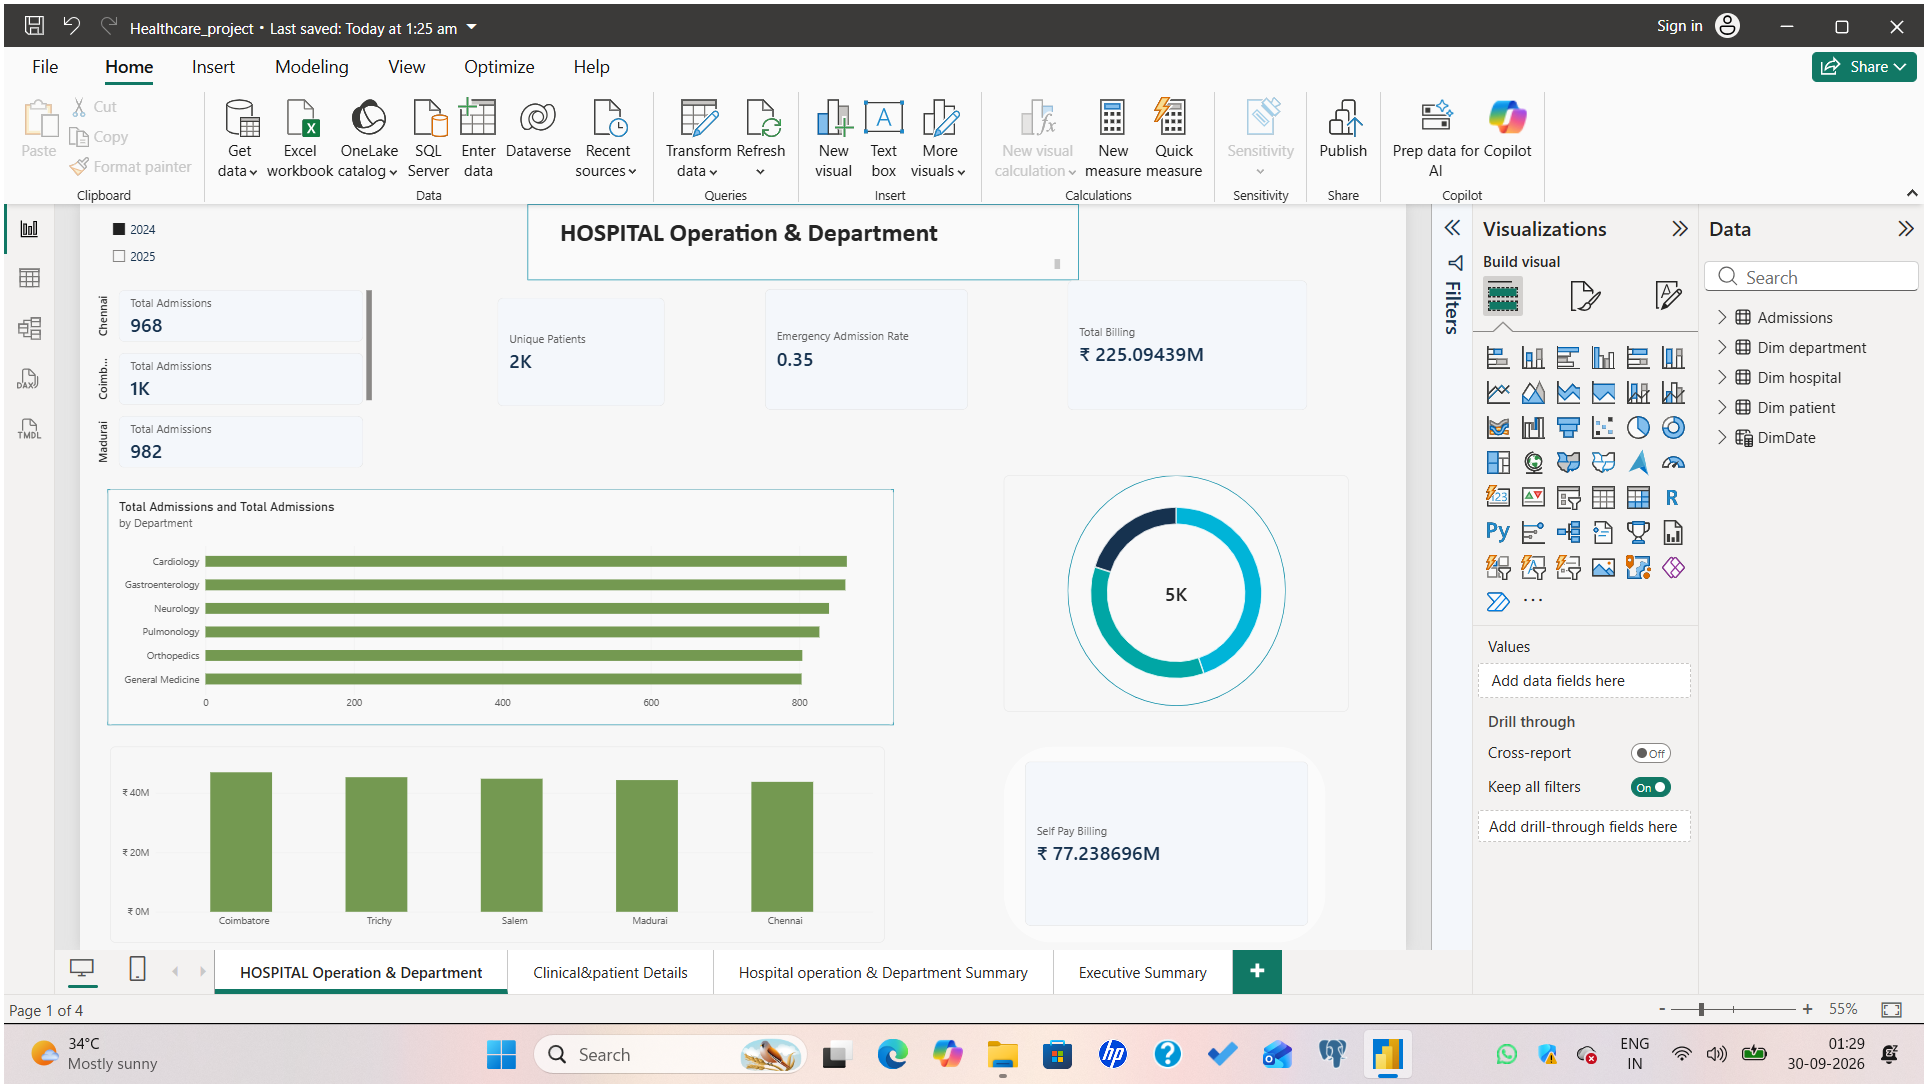

This screenshot's page, from the dashboard's own definition file:
{"tool":"powerbi","page":{"name":"HOSPITAL Operation & Department","canvas":[1920,1080],"ordinal":0},"visuals":[{"type":"shape","box":[647.9,0,798.1,110.4],"z":0},{"type":"shape","box":[1338,786,466,284],"z":1000},{"type":"shape","box":[1430,392,316,334],"z":2000},{"type":"shape","box":[39.8,412.6,1138.3,342],"z":3000},{"type":"slicer","fields":{"Values":["DimDate.Year"]},"box":[39.8,18.1,130.3,92.3],"z":4000},{"type":"cardVisual","fields":{"Rows":["Dim hospital.HospitalCity"],"Data":["Admissions.Total Admissions"]},"box":[22,124,401.7,267.8],"z":5000},{"type":"barChart","fields":{"Category":["Dim department.Department"],"Y":["Admissions.Total Admissions","Admissions.Total Admissions"]},"box":[39.8,412.6,1138.3,342],"z":6000},{"type":"donutChart","fields":{"Category":["Admissions.AdmissionType"],"Y":["Admissions.Total Admissions"]},"box":[1338,392,499.5,342],"z":7000},{"type":"clusteredColumnChart","fields":{"Category":["Dim hospital.HospitalCity"],"Y":["Admissions.Total Billing"]},"box":[43.4,785.4,1122,284.1],"z":8000},{"type":"cardVisual","fields":{"Data":["Admissions.Unique Patients"]},"box":[604.4,135.7,242.5,157.4],"z":9000},{"type":"cardVisual","fields":{"Data":["Admissions.Total Billing"]},"box":[1429.6,110.4,347.5,188.2],"z":10000},{"type":"cardVisual","fields":{"Data":["Admissions.Emergency Admission Rate"]},"box":[991.7,123.1,295,175.5],"z":11000},{"type":"cardVisual","fields":{"Data":["Admissions.Self Pay Billing"]},"box":[1368,808,410,238],"z":12000},{"type":"textbox","title":"HOSPITAL Operation & Department","box":[694.9,18.1,723.9,76],"z":13000},{"type":"textbox","box":[1721,127,150,172],"z":14000}]}

Visuals, with their boxes on the page's 1920x1080 design canvas (x1, y1, x2, y2). These are canvas units, not pixel positions in the 1928x1088 screenshot, which may show the page scaled, cropped or inside an application window:
shape: [x1=648, y1=0, x2=1446, y2=110]
shape: [x1=1338, y1=786, x2=1804, y2=1070]
shape: [x1=1430, y1=392, x2=1746, y2=726]
shape: [x1=40, y1=413, x2=1178, y2=755]
slicer - DimDate.Year: [x1=40, y1=18, x2=170, y2=110]
cardVisual - Dim hospital.HospitalCity x Admissions.Total Admissions: [x1=22, y1=124, x2=424, y2=392]
barChart - Dim department.Department x Admissions.Total Admissions: [x1=40, y1=413, x2=1178, y2=755]
donutChart - Admissions.AdmissionType x Admissions.Total Admissions: [x1=1338, y1=392, x2=1838, y2=734]
clusteredColumnChart - Dim hospital.HospitalCity x Admissions.Total Billing: [x1=43, y1=785, x2=1165, y2=1070]
cardVisual - Admissions.Unique Patients: [x1=604, y1=136, x2=847, y2=293]
cardVisual - Admissions.Total Billing: [x1=1430, y1=110, x2=1777, y2=299]
cardVisual - Admissions.Emergency Admission Rate: [x1=992, y1=123, x2=1287, y2=299]
cardVisual - Admissions.Self Pay Billing: [x1=1368, y1=808, x2=1778, y2=1046]
"HOSPITAL Operation & Department" textbox: [x1=695, y1=18, x2=1419, y2=94]
textbox: [x1=1721, y1=127, x2=1871, y2=299]
